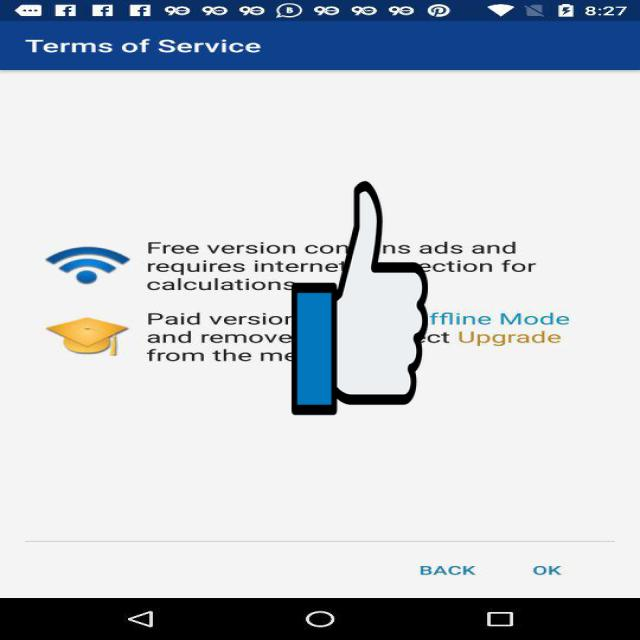privacy zuckering: (291, 176, 428, 420)
